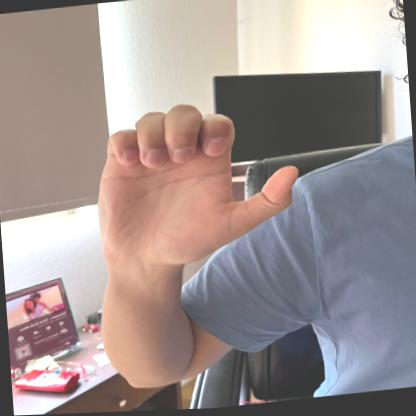E: (82, 92, 311, 275)
